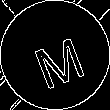M_N: (24, 23, 86, 87)
